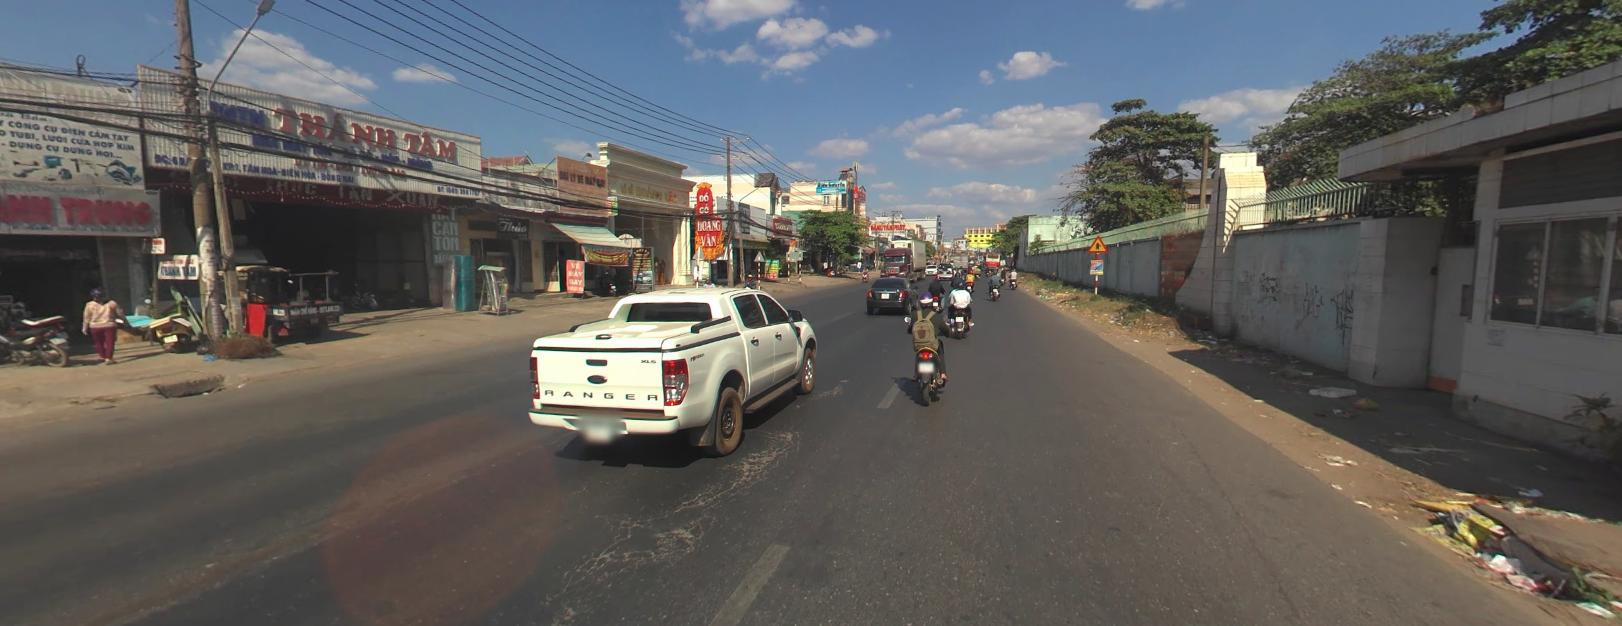Nguy hiem: (1087, 234, 1108, 251)
